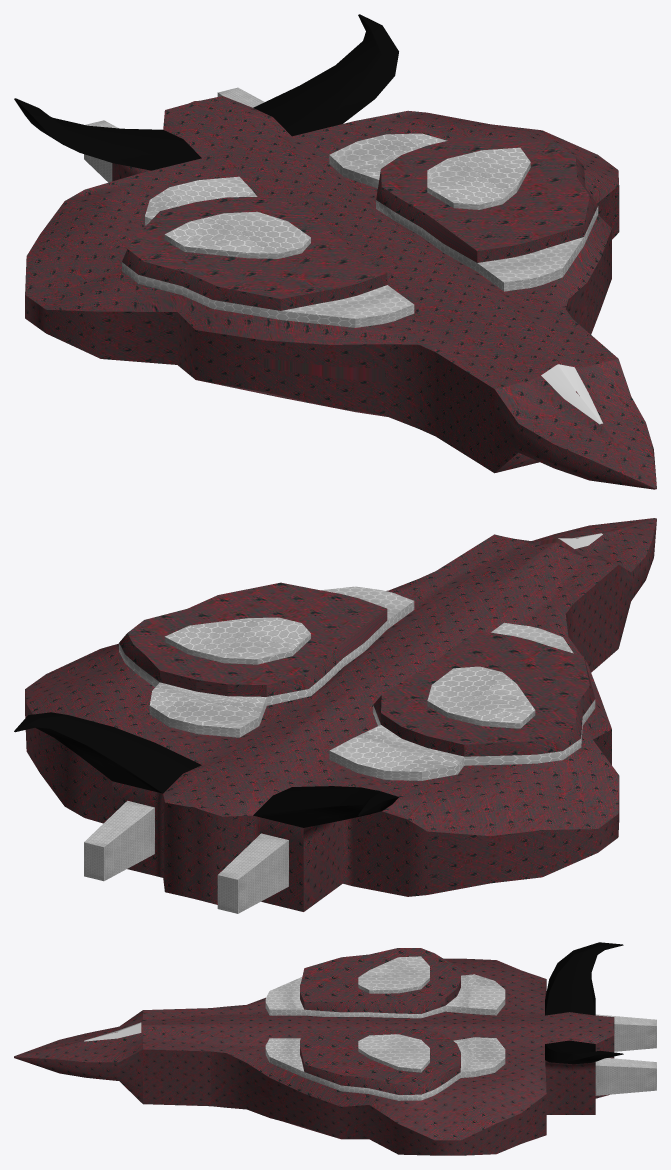
The model's file is model_playerShip.fbx.
The picture shows the model from 3 angles, top to bottom: view 1: azimuth 30°, elevation 25°; view 2: azimuth 150°, elevation 25°; view 3: azimuth 270°, elevation 25°; orthographic projection. The views are drawn at different scales.
Parts seen in each view (by area): view 1: model_playerShip; view 2: model_playerShip; view 3: model_playerShip.
Boxes of the visible parts, left/top/right/bottom form: model_playerShip: left=14, top=14, right=656, bottom=489; model_playerShip: left=14, top=518, right=656, bottom=913; model_playerShip: left=14, top=942, right=656, bottom=1155.
Bounding box in the file's own units: 434 × 96.02 × 649.
